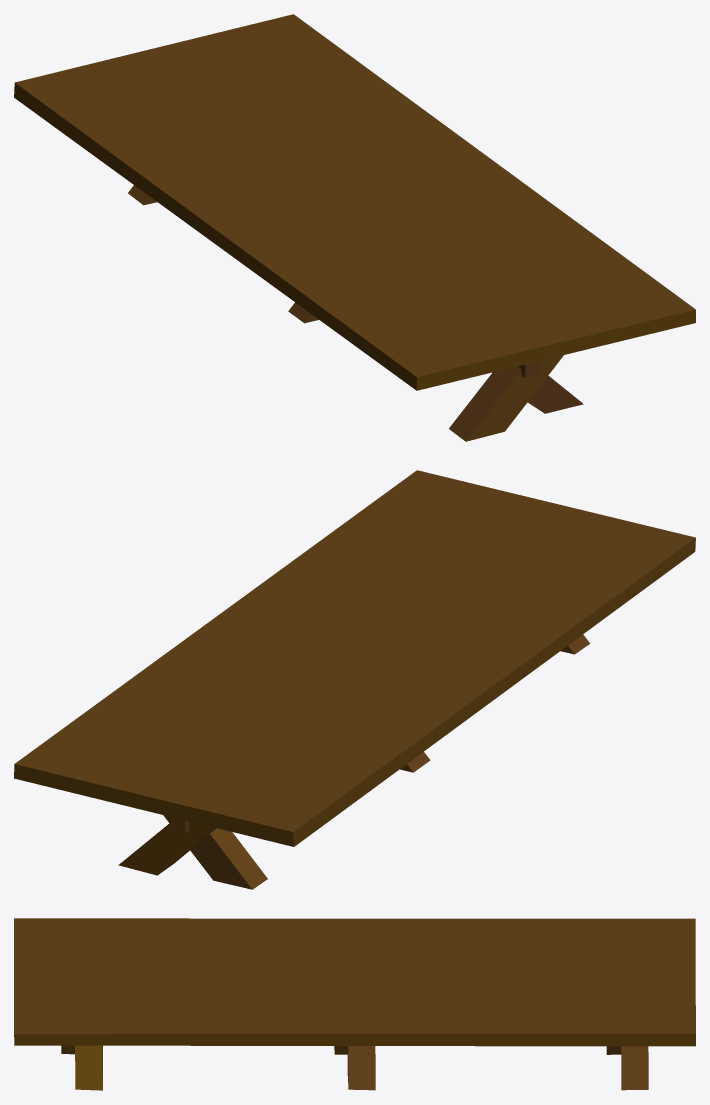
Rendered from syn_Table.glb.
The picture shows the model from 3 angles, top to bottom: view 1: azimuth 30°, elevation 25°; view 2: azimuth 150°, elevation 25°; view 3: azimuth 270°, elevation 25°; orthographic projection. The views are drawn at different scales.
Parts seen in each view (by area): view 1: Table; view 2: Table; view 3: Table.
Boxes of the visible parts, x1=… form: Table: x1=14, y1=14, x2=695, y2=441; Table: x1=14, y1=470, x2=695, y2=889; Table: x1=14, y1=918, x2=695, y2=1090.
Bounding box in the file's own units: 2.01 × 0.7146 × 5.
